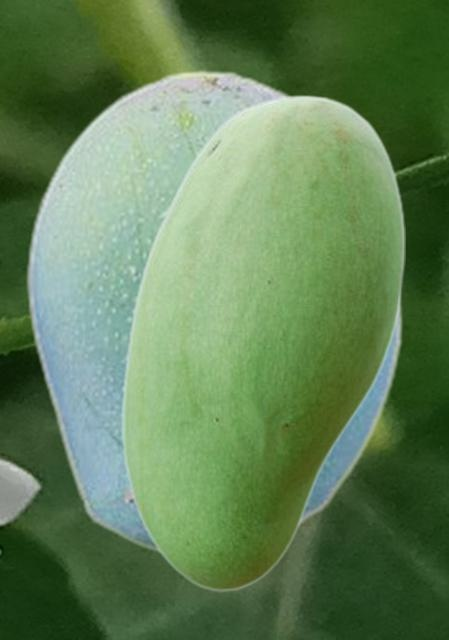green_mango: (24, 68, 403, 558), (120, 94, 404, 591)
